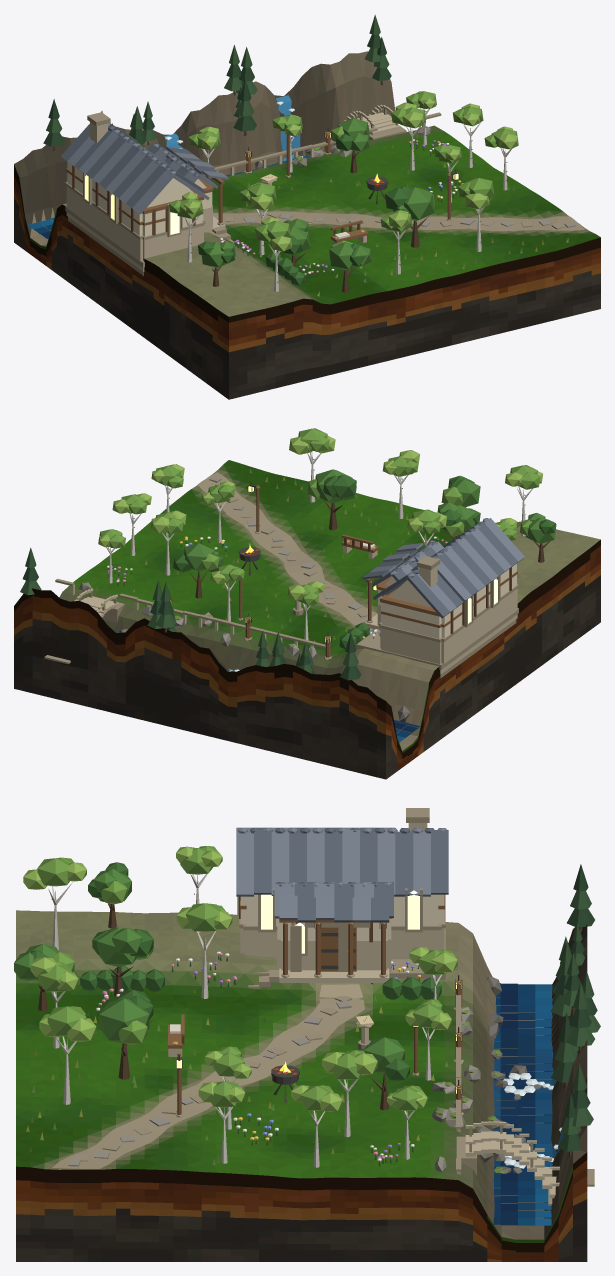
The model's file is last-homely-house.glb.
3 renders of one model, top to bottom at view 1: azimuth 30°, elevation 25°; view 2: azimuth 150°, elevation 25°; view 3: azimuth 270°, elevation 25°, orthographic. The views are drawn at different scales.
Parts seen in each view (by area): view 1: rivendell, plinth, terrain, cliff; view 2: plinth, rivendell, terrain; view 3: rivendell, terrain, plinth, water, cliff, door-house.
Boxes of the visible parts, x1,y1,x2,y2 form: rivendell: [43, 14, 584, 296]; plinth: [14, 165, 600, 399]; terrain: [30, 125, 600, 316]; cliff: [14, 51, 395, 237]; plinth: [14, 540, 600, 779]; rivendell: [20, 428, 556, 722]; terrain: [59, 460, 600, 750]; rivendell: [14, 808, 600, 1210]; terrain: [16, 910, 544, 1239]; plinth: [16, 1152, 587, 1261]; water: [493, 983, 553, 1225]; cliff: [544, 924, 587, 1239]; door-house: [320, 927, 356, 971].
Bounding box in the file's own units: 14.48 × 6 × 14.39.
